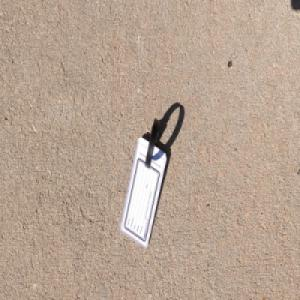LuggageTag: (119, 117, 167, 250)
